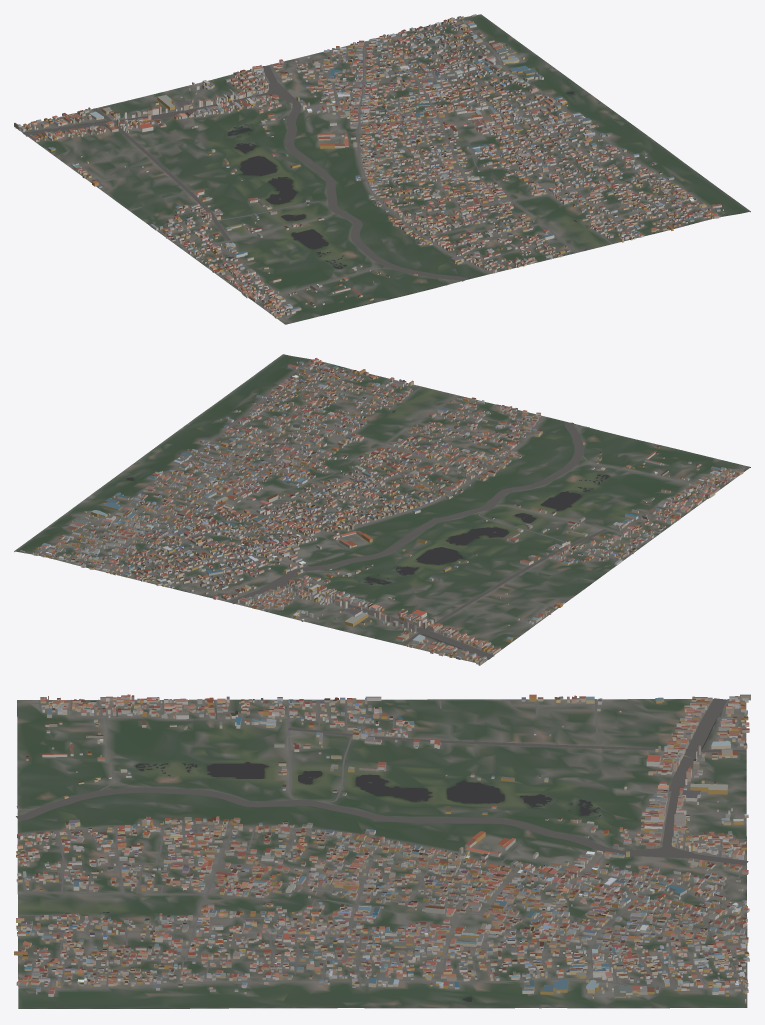
3 views of the same model, one above another, from view 1: azimuth 30°, elevation 25°; view 2: azimuth 150°, elevation 25°; view 3: azimuth 270°, elevation 25° (orthographic). The views are drawn at different scales.
Parts seen in each view (by area): view 1: ground, buildings, roads, water; view 2: ground, buildings, roads, water; view 3: ground, buildings, roads, water.
Boxes of the visible parts, <box> form: ground: <box>15,14,750,324</box>; buildings: <box>14,14,723,318</box>; roads: <box>22,18,720,323</box>; water: <box>23,91,576,268</box>; ground: <box>14,354,750,663</box>; buildings: <box>20,358,743,665</box>; roads: <box>39,361,745,659</box>; water: <box>126,410,609,659</box>; ground: <box>17,699,747,1008</box>; buildings: <box>14,694,750,1003</box>; roads: <box>16,698,748,993</box>; water: <box>103,716,718,1001</box>.
Size of the model in its own units: 1407 by 29.58 by 1417.
